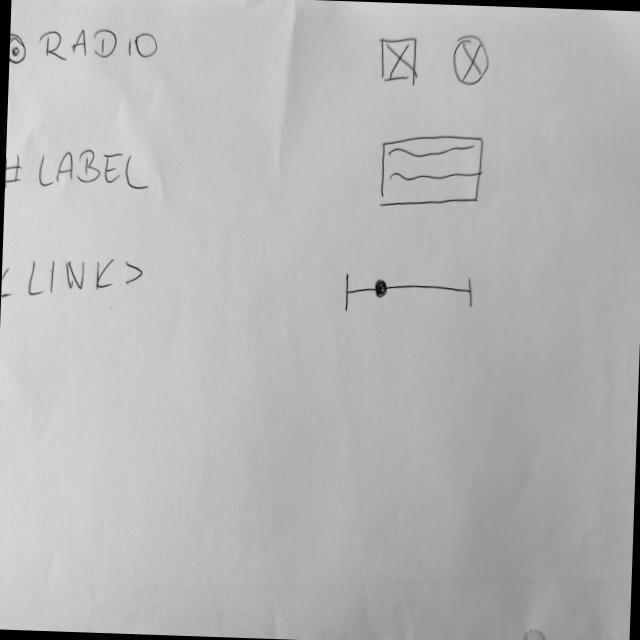image: (451, 33, 491, 87), (378, 35, 419, 86)
label: (6, 146, 155, 196)
link: (2, 254, 148, 308)
radio: (10, 25, 161, 72)
slider: (345, 270, 476, 319)
textarea: (377, 132, 486, 216)
